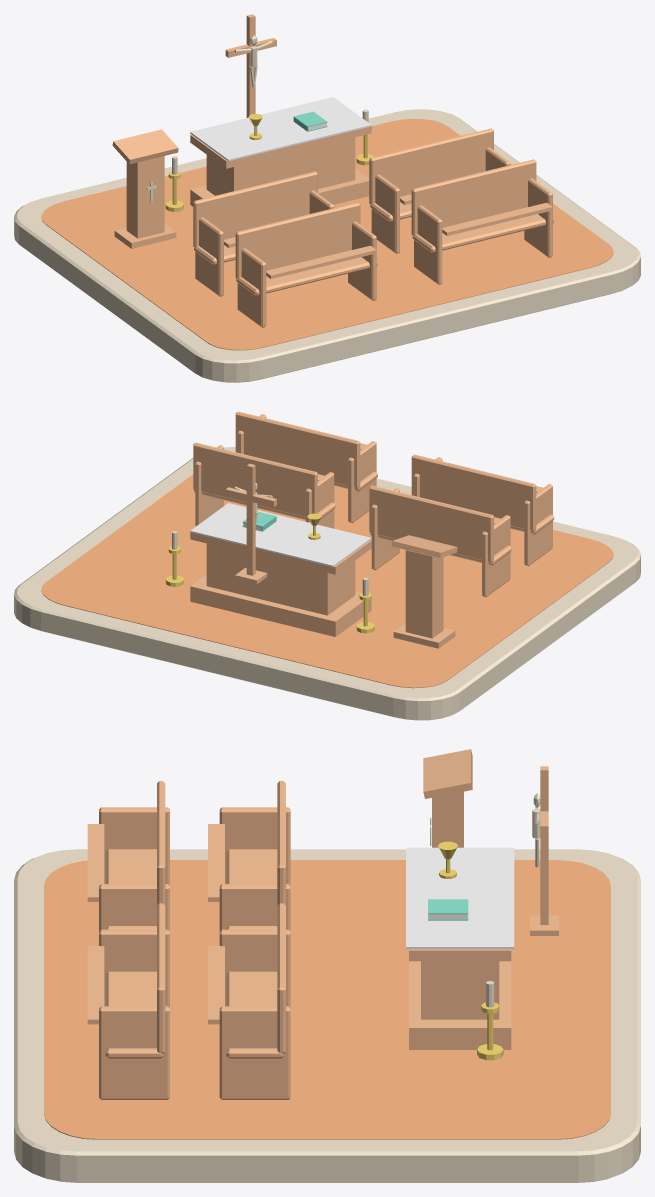
The model's file is room.fbx.
The picture shows the model from 3 angles, top to bottom: view 1: azimuth 30°, elevation 25°; view 2: azimuth 150°, elevation 25°; view 3: azimuth 270°, elevation 25°; orthographic projection. The views are drawn at different scales.
Visible parts, largest first — view 1: COM-02 Floor Surface, COM-01 Rounded Base Direct, Back.002, Back.003, Altar cloth, Back.001, Back, Altar, Body, End panel.004, End panel.006, End panel (+12 smaller); view 2: COM-02 Floor Surface, COM-01 Rounded Base Direct, Altar, Back, Back.002, Back.003, Altar cloth, Back.001, Base, Body, End panel.004, End panel (+10 smaller); view 3: COM-02 Floor Surface, COM-01 Rounded Base Direct, Altar cloth, End panel.003, End panel.007, Base, Altar, End panel.002, End panel, End panel.006, End panel.004, End panel.001 (+18 smaller).
Part boxes in pixels (x1,y1,x2,y2): COM-02 Floor Surface: (41, 118, 613, 350); COM-01 Rounded Base Direct: (14, 109, 640, 382); Back.002: (235, 202, 360, 278); Back.003: (411, 159, 536, 235); Altar cloth: (190, 97, 371, 161); Back.001: (369, 128, 493, 204); Back: (193, 171, 317, 247); Altar: (206, 137, 355, 195); Body: (126, 156, 164, 238); End panel.004: (237, 248, 266, 327); End panel.006: (414, 205, 442, 284); End panel: (195, 217, 223, 296); COM-02 Floor Surface: (41, 474, 613, 688); COM-01 Rounded Base Direct: (14, 447, 640, 720); Altar: (206, 543, 355, 615); Back: (369, 485, 493, 562); Back.002: (411, 454, 536, 531); Back.003: (235, 411, 360, 488); Altar cloth: (190, 503, 371, 567); Back.001: (193, 442, 317, 516); Base: (190, 574, 371, 636); Body: (405, 550, 443, 638); End panel.004: (524, 484, 552, 566); End panel: (482, 515, 510, 597); COM-02 Floor Surface: (44, 860, 610, 1139); COM-01 Rounded Base Direct: (14, 849, 640, 1182); Altar cloth: (406, 847, 514, 949); End panel.003: (219, 1006, 290, 1099); End panel.007: (99, 1006, 169, 1099); Base: (409, 961, 511, 1049); Altar: (421, 961, 499, 1019); End panel.002: (219, 929, 290, 1007); End panel: (219, 807, 290, 885); End panel.006: (99, 929, 169, 1007); End panel.004: (99, 807, 169, 885); End panel.001: (219, 884, 290, 931).
Bounding box in the file's own units: 600 × 241 × 520.
